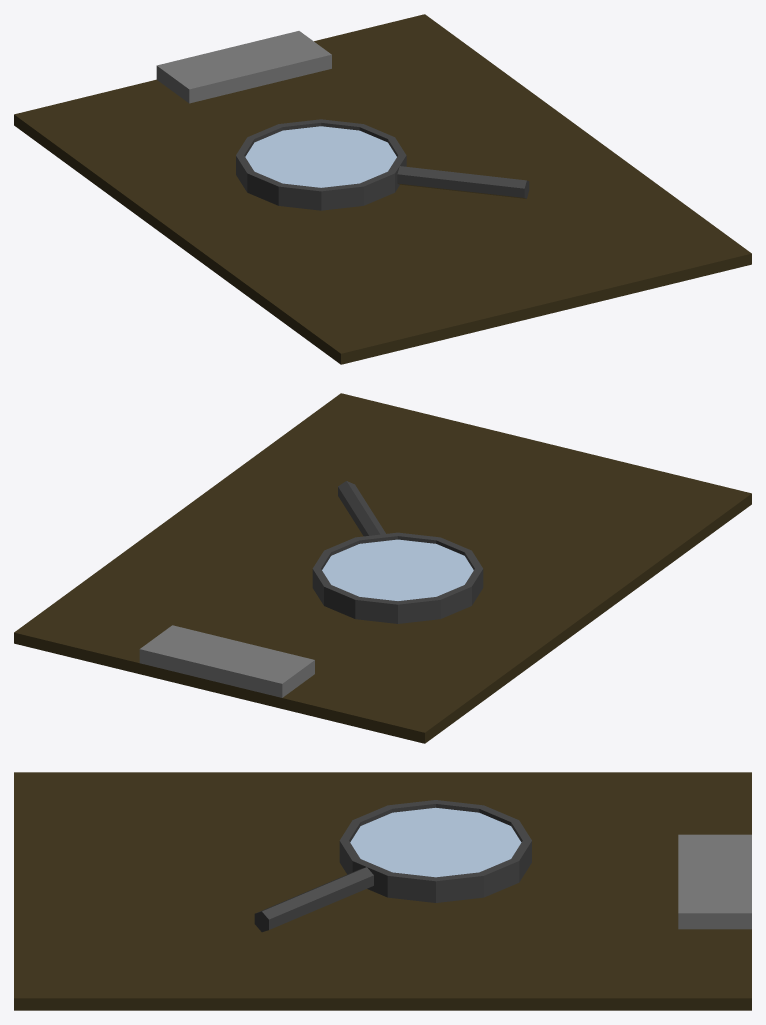
File: Folder.fbx
The picture shows the model from 3 angles, top to bottom: view 1: azimuth 30°, elevation 25°; view 2: azimuth 150°, elevation 25°; view 3: azimuth 270°, elevation 25°; orthographic projection. The views are drawn at different scales.
Parts seen in each view (by area): view 1: Cream; view 2: Cream; view 3: Cream.
Boxes of the visible parts, x1,y1,x2,y2 form: Cream: [14, 14, 751, 364]; Cream: [14, 393, 751, 743]; Cream: [14, 772, 751, 1010].
Size of the model in its own units: 200 by 14.83 by 276.
